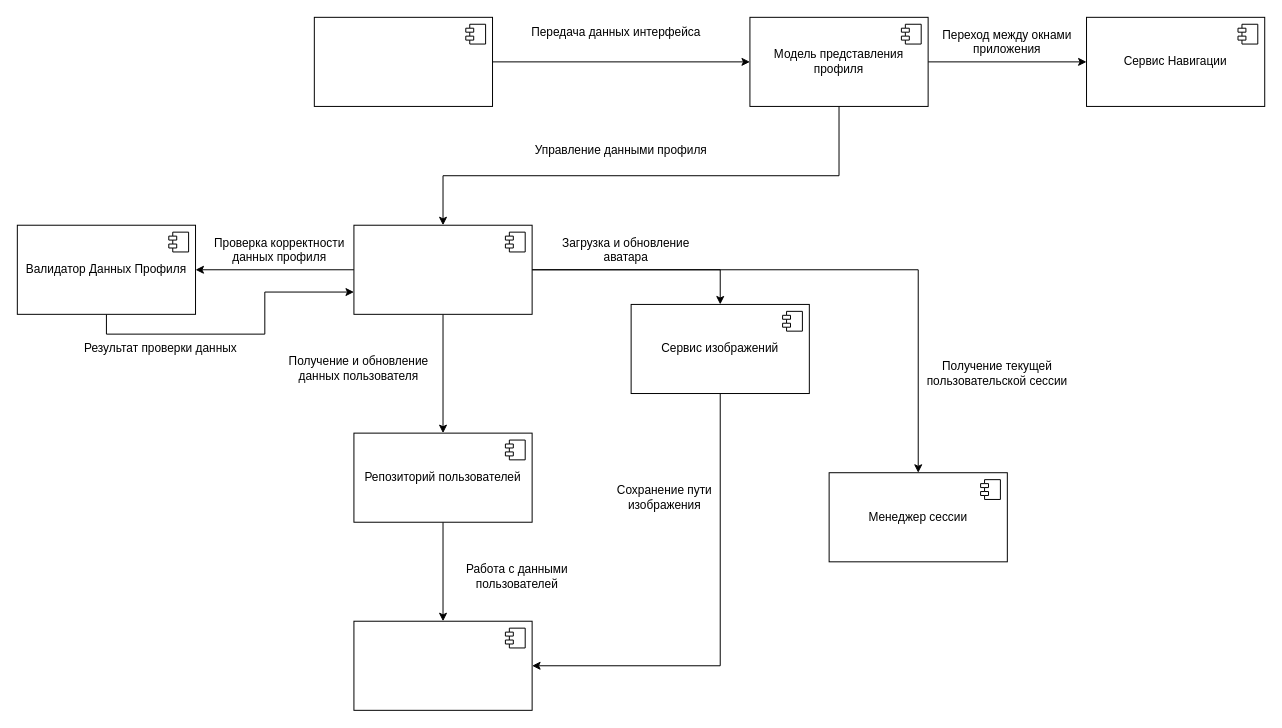
Image size: 1282x728. Some labels were removed from this diagram. Here are the shapes that lost their labels. From the top down, the centre of each, then its label:
At (x=403, y=61): "Окно профиля".
At (x=442, y=269): "Сервис личного кабинета".
At (x=442, y=665): "БД".
